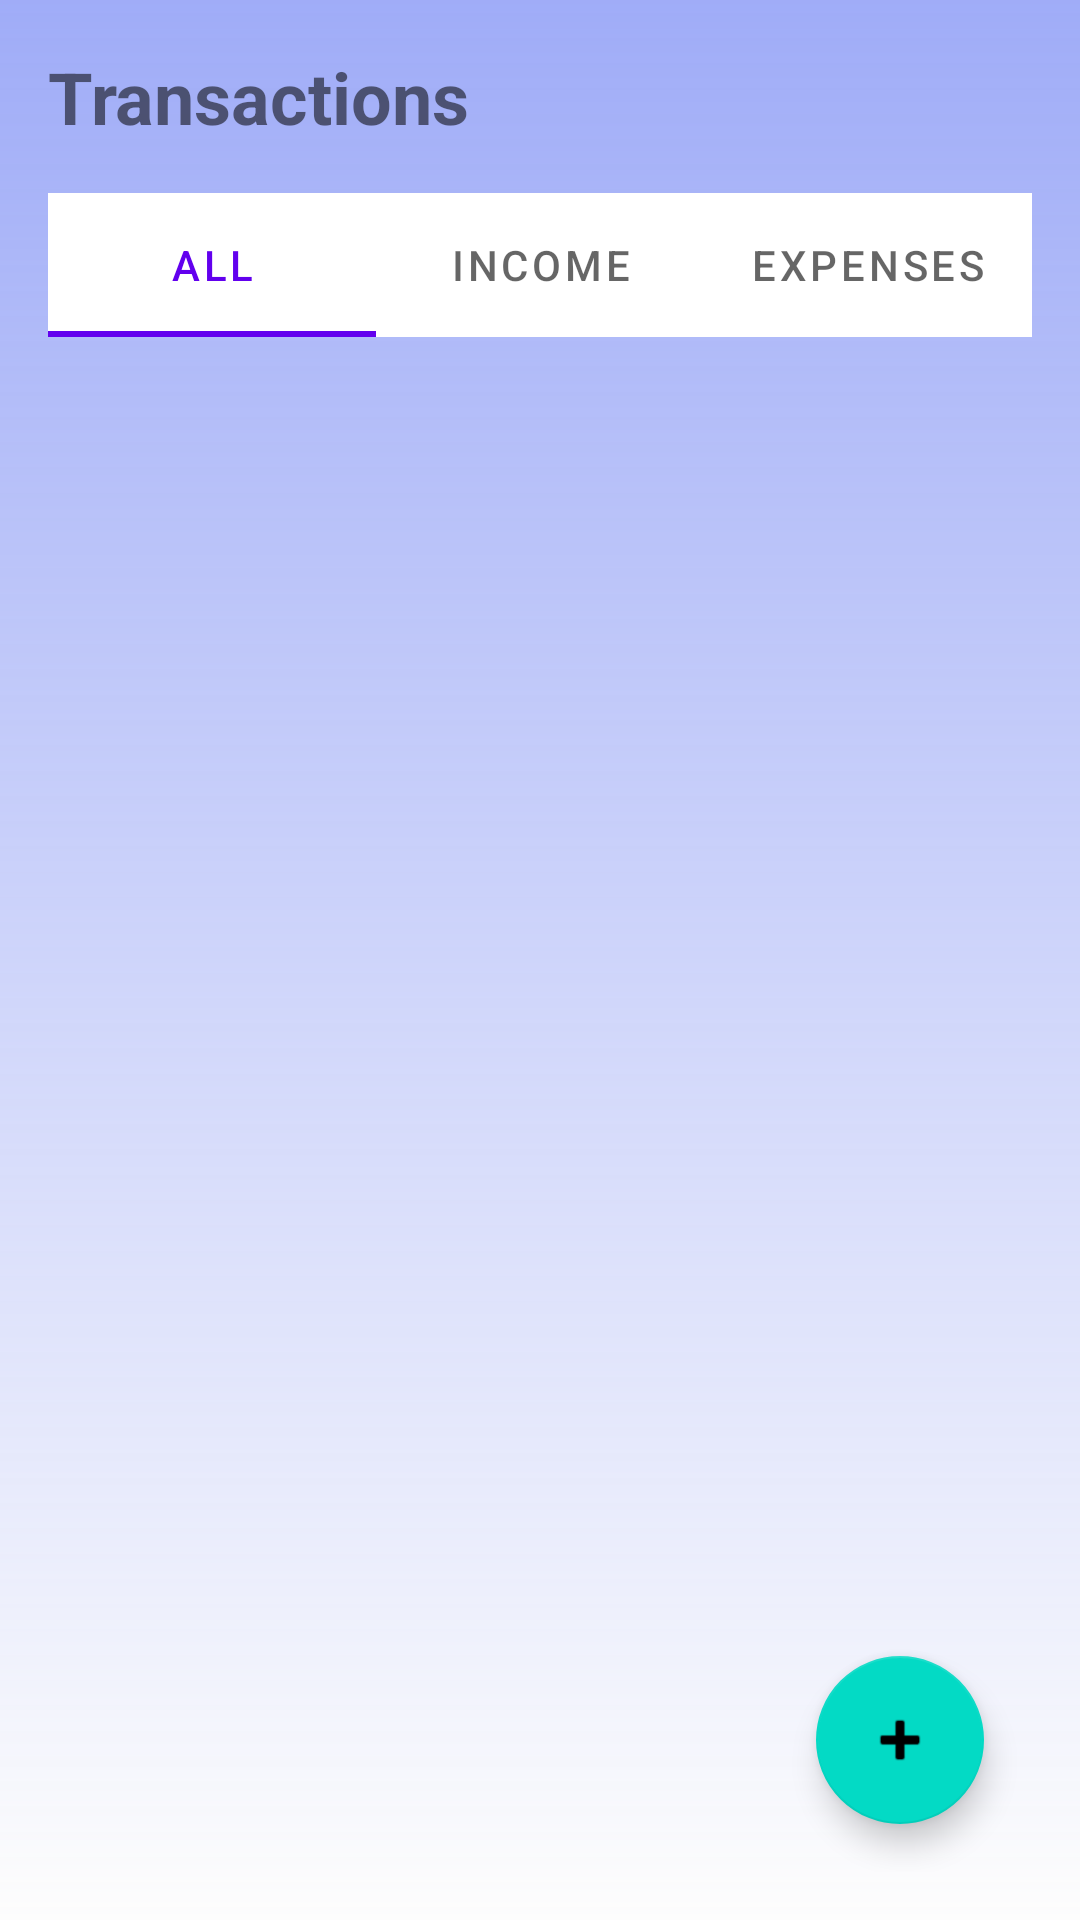

Screen size 1080px×1920px. Icon name, then its box in pixels as (x1, y1, x2, y2):
Add Transaction: (816, 1656, 984, 1824)
